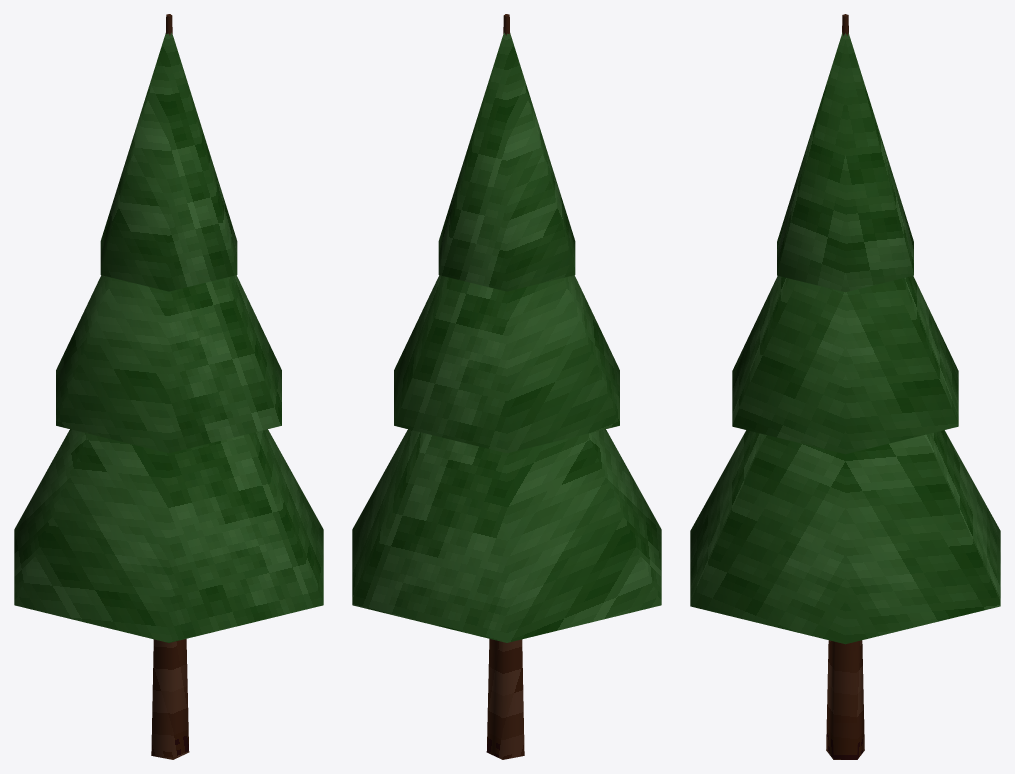
The model's file is pine03-lod2.glb.
3 views of the same model, side by side, from view 1: azimuth 30°, elevation 25°; view 2: azimuth 150°, elevation 25°; view 3: azimuth 270°, elevation 25° (orthographic).
Visible parts, largest first — view 1: TZ_pine_Batch_01_LOD2, TZ_pine_Batch_00_LOD2; view 2: TZ_pine_Batch_01_LOD2, TZ_pine_Batch_00_LOD2; view 3: TZ_pine_Batch_01_LOD2, TZ_pine_Batch_00_LOD2.
Boxes of the visible parts, x1,y1,x2,y2 form: TZ_pine_Batch_01_LOD2: (14, 32, 323, 642); TZ_pine_Batch_00_LOD2: (151, 14, 189, 759); TZ_pine_Batch_01_LOD2: (352, 32, 661, 642); TZ_pine_Batch_00_LOD2: (486, 14, 524, 759); TZ_pine_Batch_01_LOD2: (690, 32, 1000, 644); TZ_pine_Batch_00_LOD2: (826, 14, 864, 759).
Bounding box in the file's own units: 3.87 × 8.8 × 3.35.
Materials: 2 (2 with a texture image).
